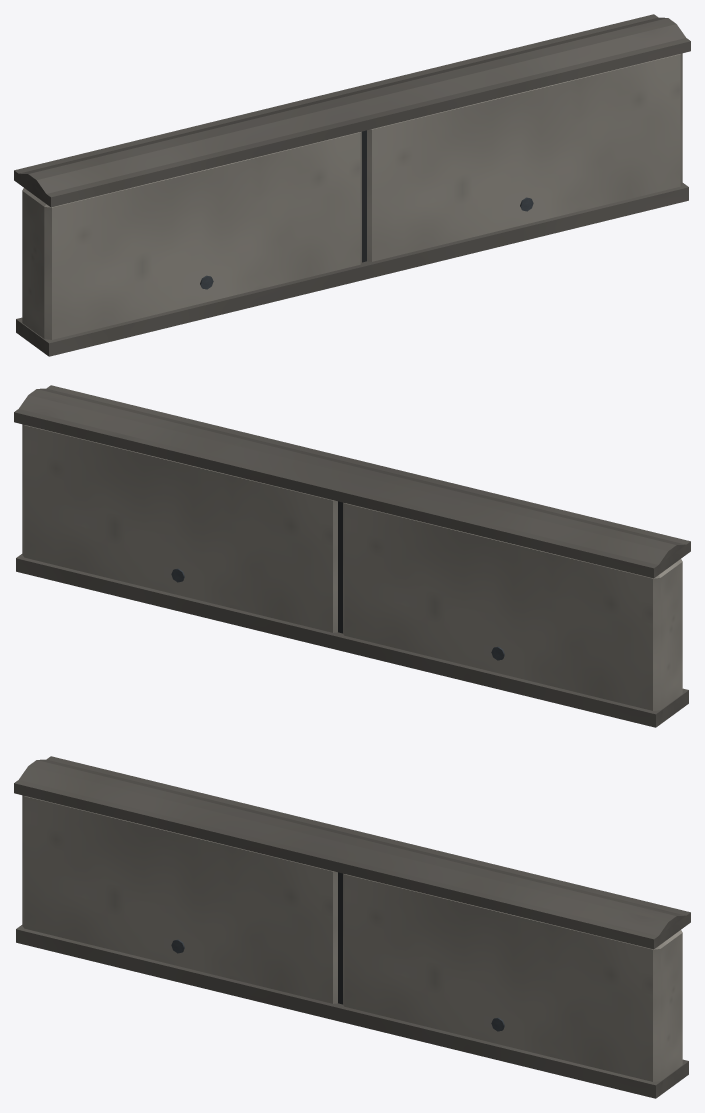
Rendered from bund_lc.obj.
The picture shows the model from 3 angles, top to bottom: view 1: azimuth 30°, elevation 25°; view 2: azimuth 150°, elevation 25°; view 3: azimuth 330°, elevation 25°; orthographic projection.
Visible parts, largest first — view 1: bund_lc; view 2: bund_lc; view 3: bund_lc.
Boxes of the visible parts, left/top/right/bottom form: bund_lc: left=14, top=14, right=690, bottom=356; bund_lc: left=14, top=385, right=690, bottom=727; bund_lc: left=14, top=756, right=690, bottom=1098.
Bounding box in the file's own units: 4 × 1 × 0.4.
Materials: 1 (1 with a texture image).
